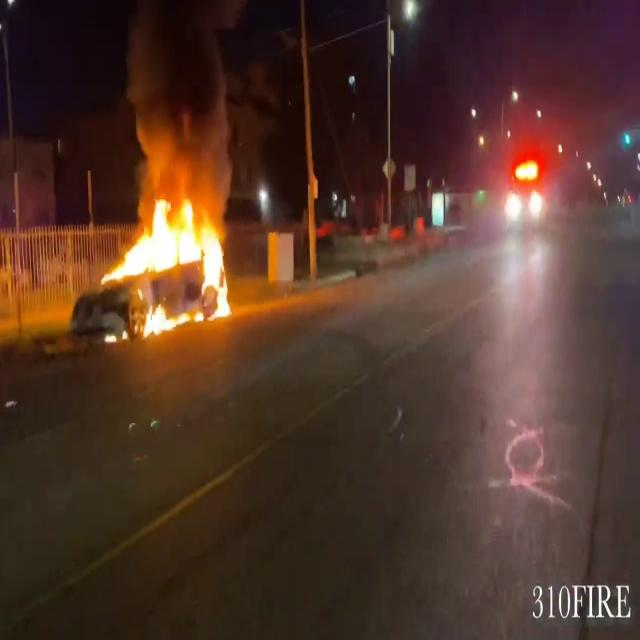Fire: (109, 186, 236, 332)
Smoke: (120, 0, 238, 204)
